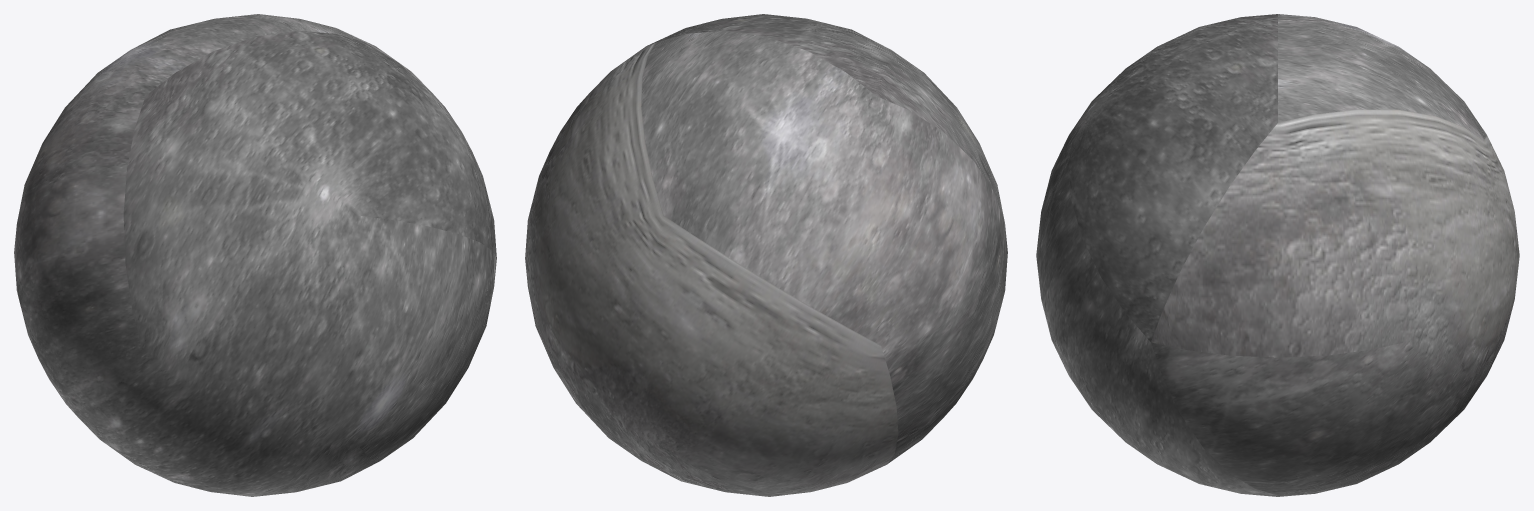
File: mercury.glb
3 renders of one model, left to right at view 1: azimuth 30°, elevation 25°; view 2: azimuth 150°, elevation 25°; view 3: azimuth 270°, elevation 25°, orthographic.
Parts seen in each view (by area): view 1: Sphere; view 2: Sphere; view 3: Sphere.
Part boxes in pixels (<box>): Sphere: <box>14,14,496,496</box>; Sphere: <box>525,14,1007,496</box>; Sphere: <box>1036,14,1519,496</box>.
Bounding box in the file's own units: 200 × 200 × 200.
Materials: 1 (1 with a texture image).
